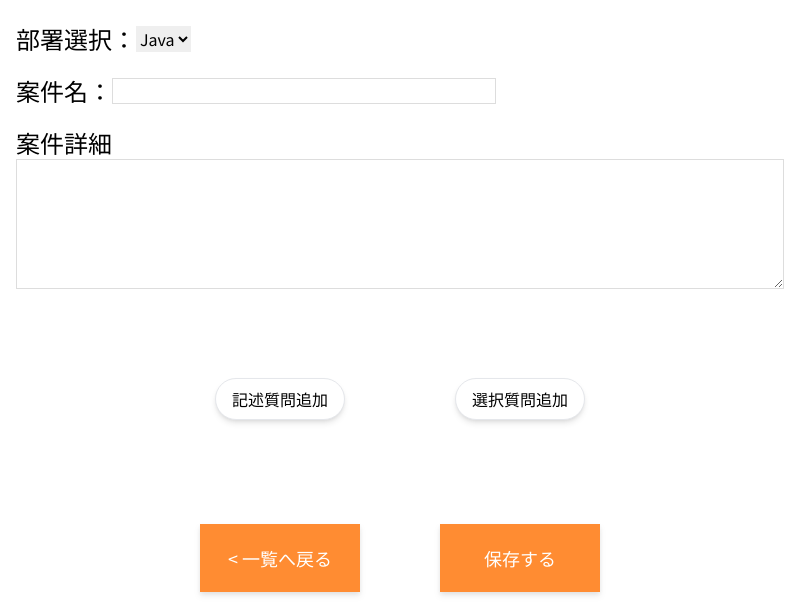
it: 質問・回答例作成画面テスト › バリデーションテスト（記述式）
Click the button with test id "addWriteButton" at x=280, y=399, box [215, 378, 345, 420]
(page scrolled)
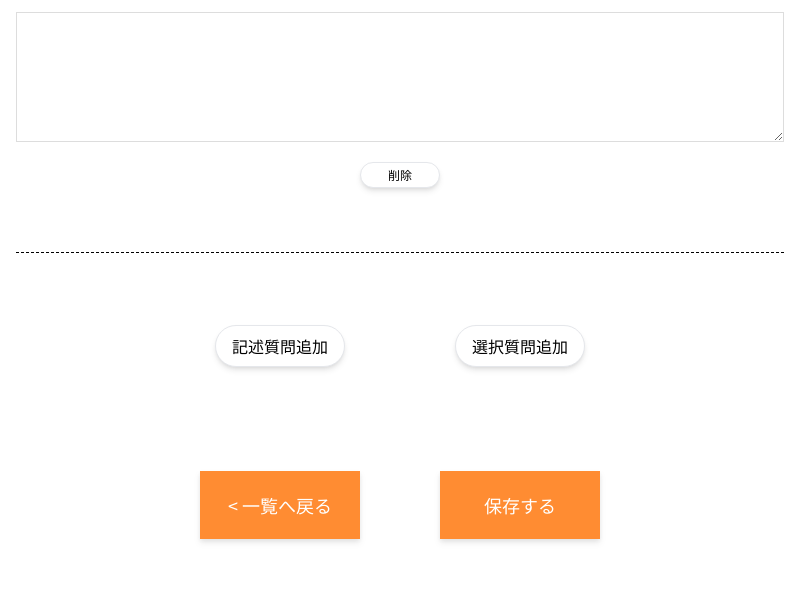
Click the button with test id "sendButton" at x=520, y=505, box [440, 471, 600, 539]
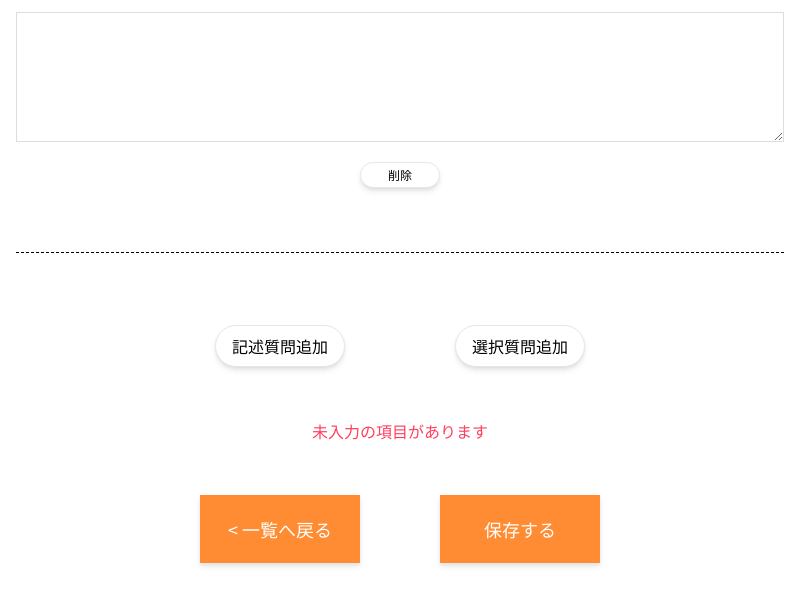
Check: the text with test id "errMsg" reads "未入力の項目があります", box [312, 419, 488, 443]
